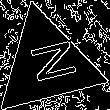N_W: (18, 38, 76, 90)
